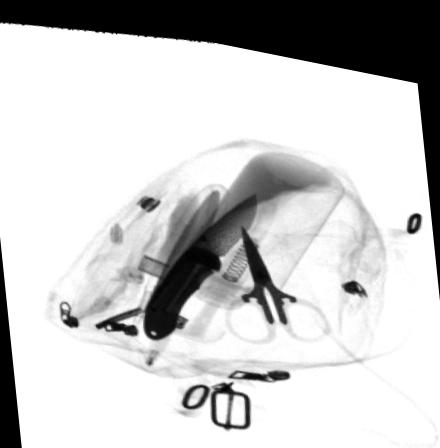Knife: (144, 181, 256, 334)
Scissors: (223, 216, 332, 336)
